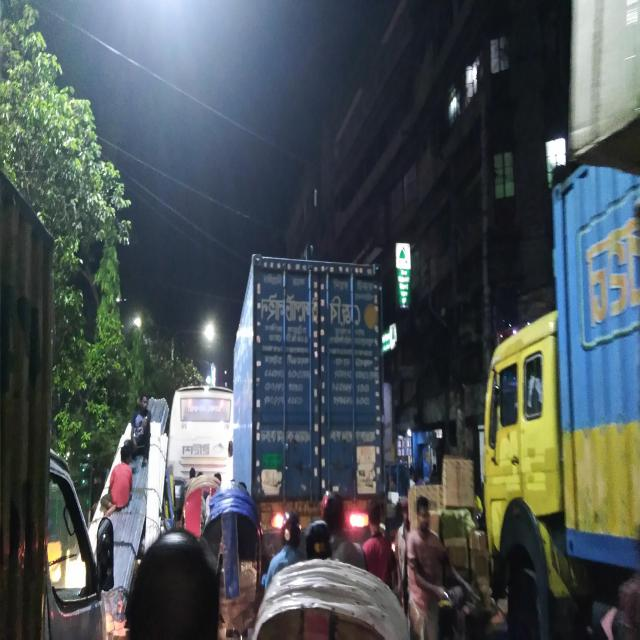bus: (162, 369, 235, 525)
truck: (481, 118, 640, 640), (229, 227, 392, 547)
